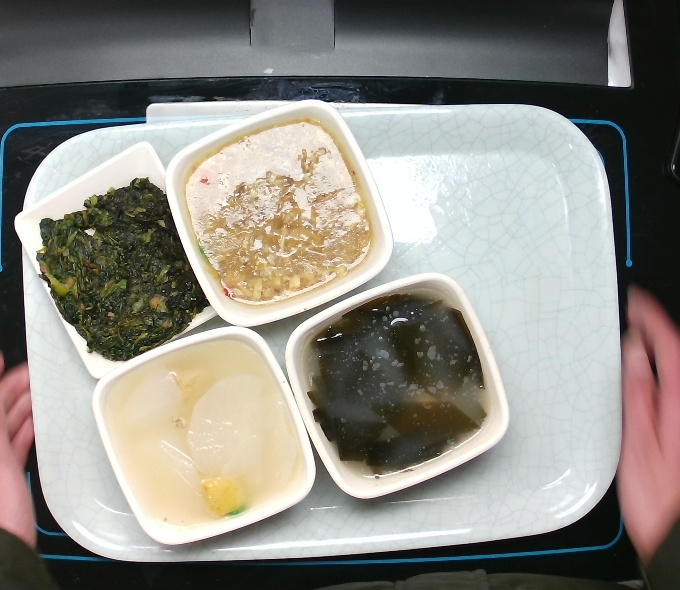wcq-HaiDaiPaiGuTang: (304, 291, 490, 474)
wcq-LuoBoYouPaoTang: (101, 337, 299, 525)
wcq-QinCaiBing: (32, 174, 211, 364)
wcq-SuanLaGeng: (183, 120, 373, 305)
